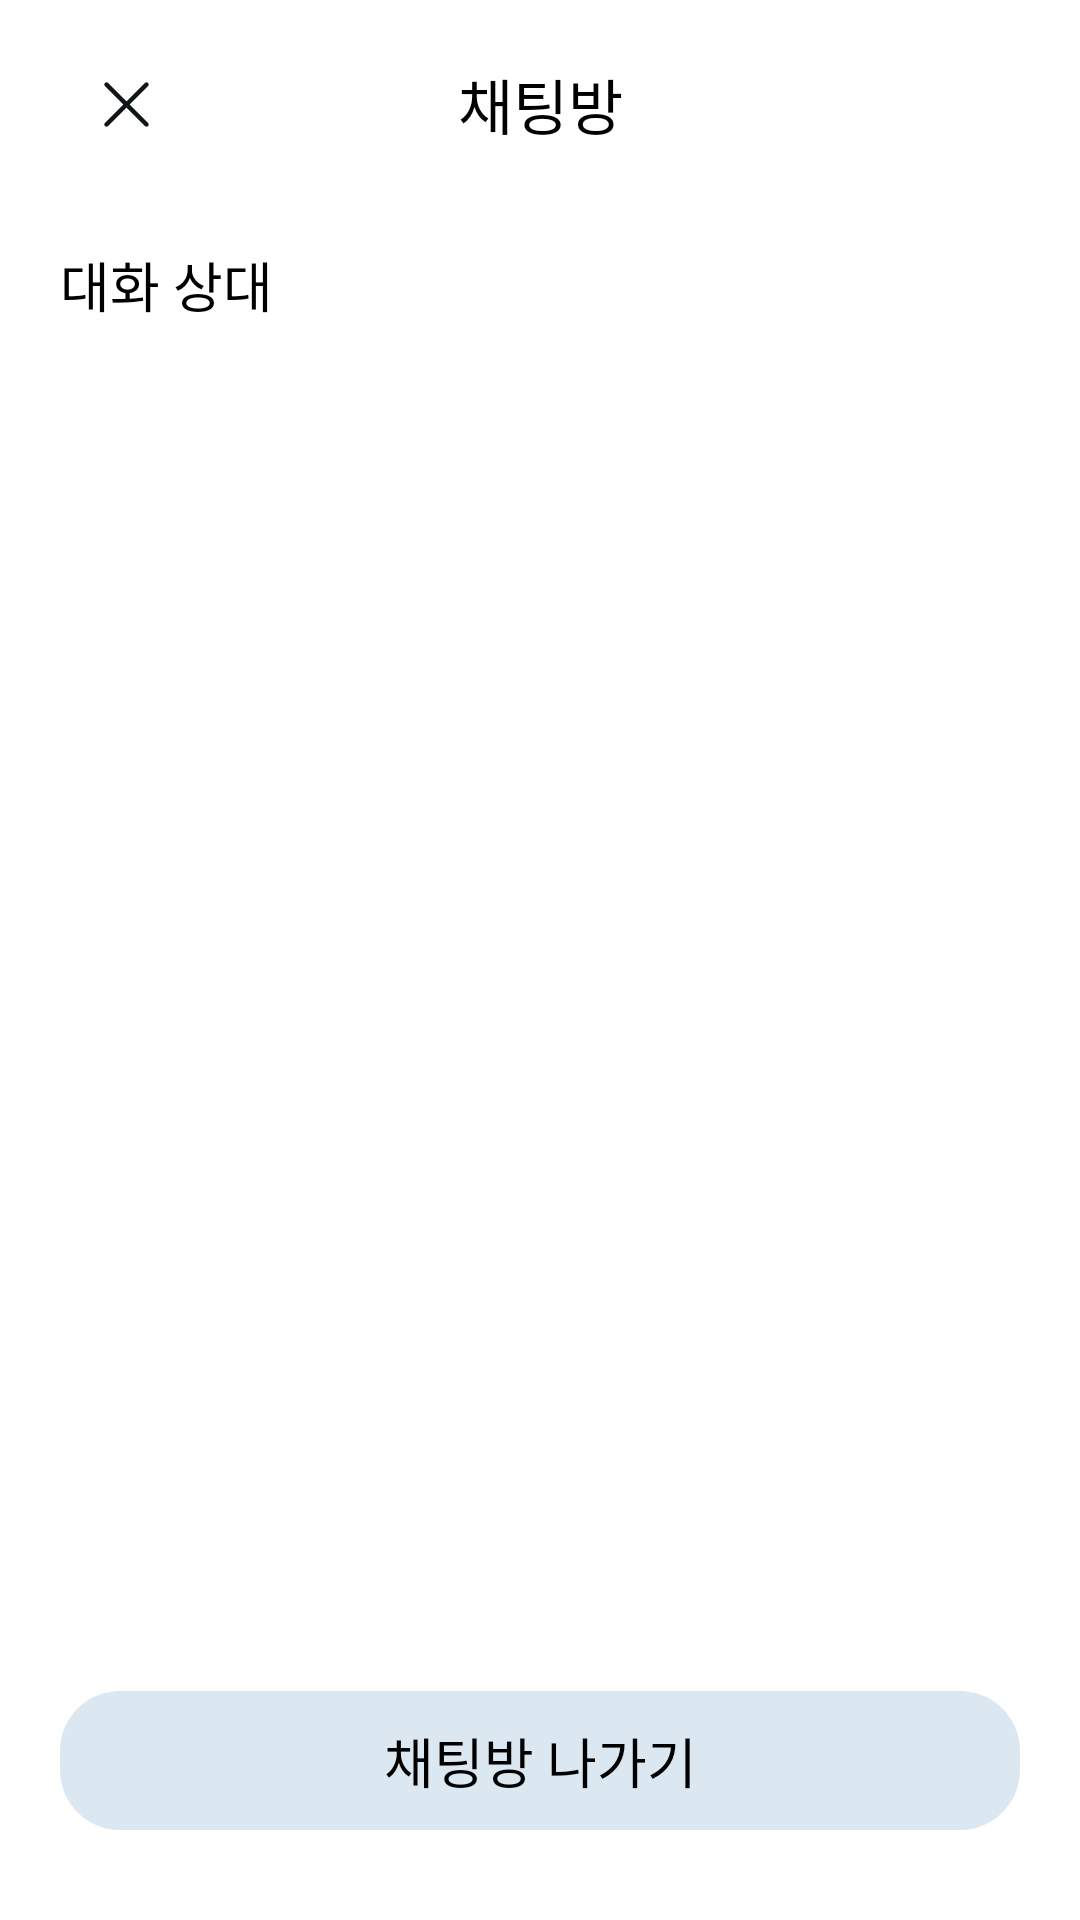

Screen size 1080 × 1920. Icon name, then its center in pixels as (x=x, y=y):
close: (x=126, y=104)
